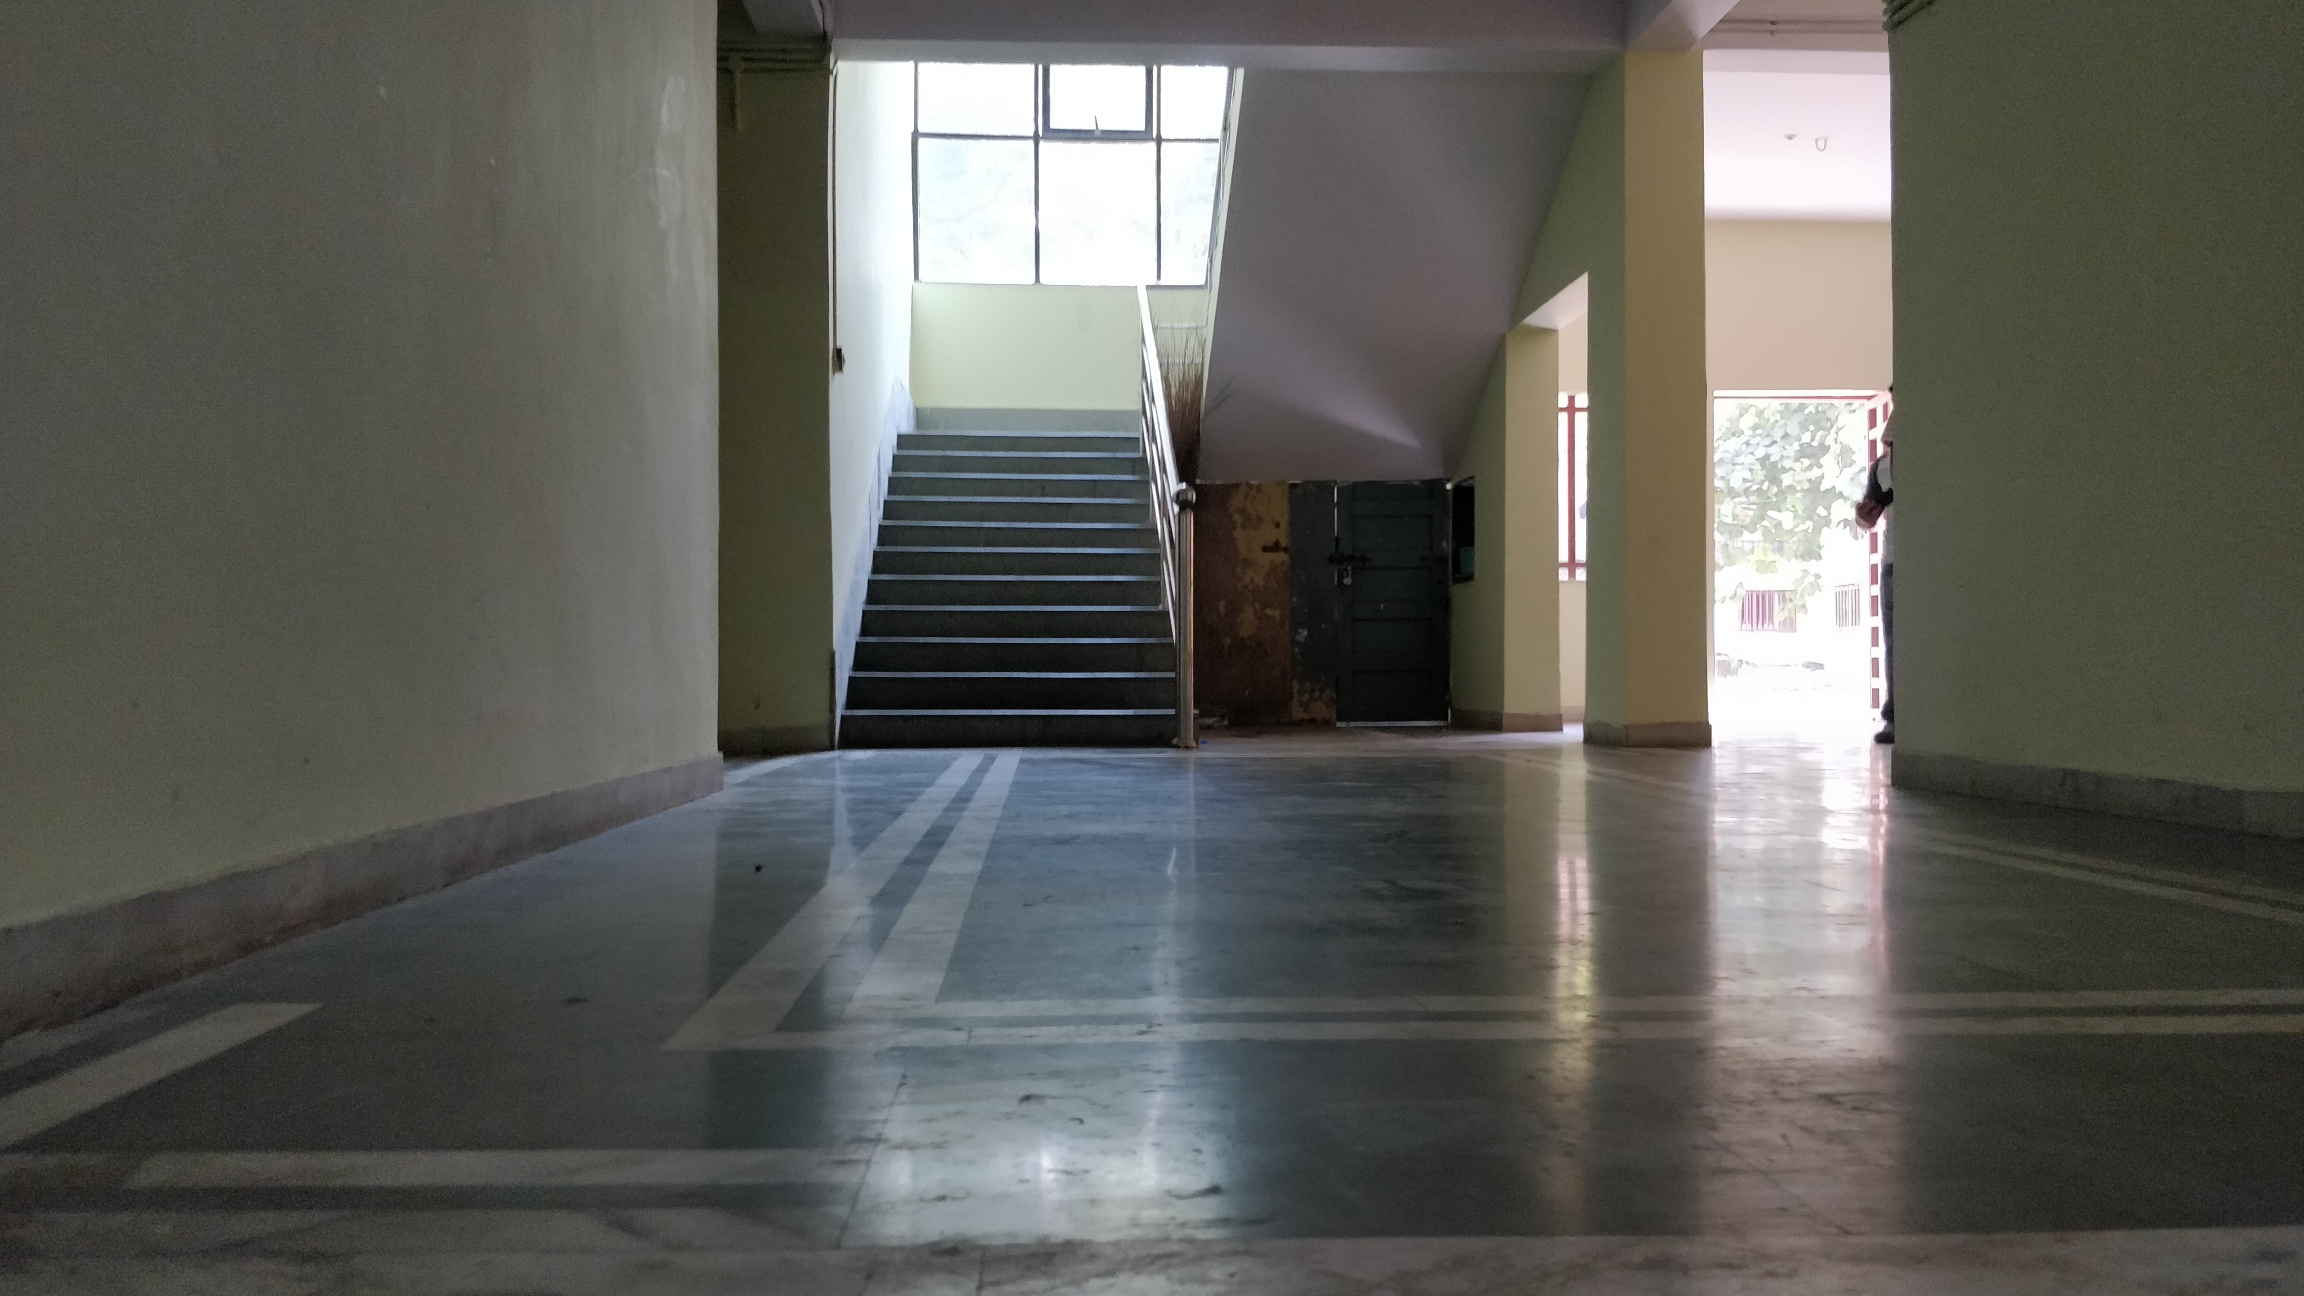stairs_up: (847, 423, 1218, 744)
